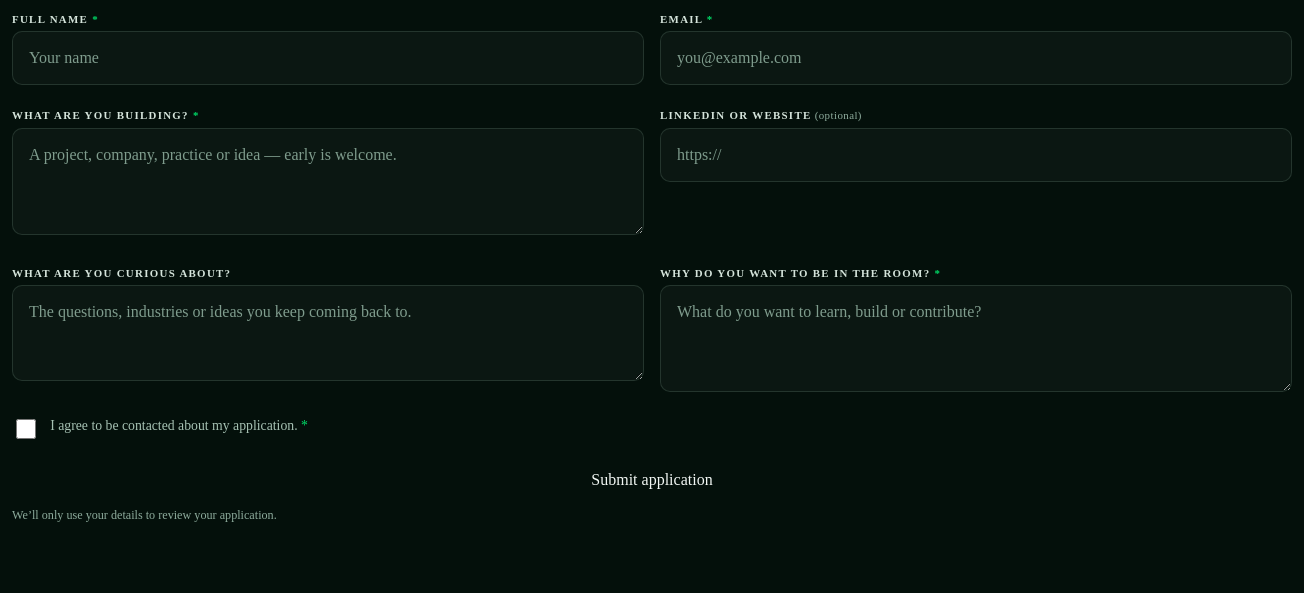
Test: ApplicationForm › handles a network failure without losing entered data
Type "Ada Lovelace" into the field labelled "Full name *". click: (328, 58)
box: left=12, top=31, right=644, bottom=85
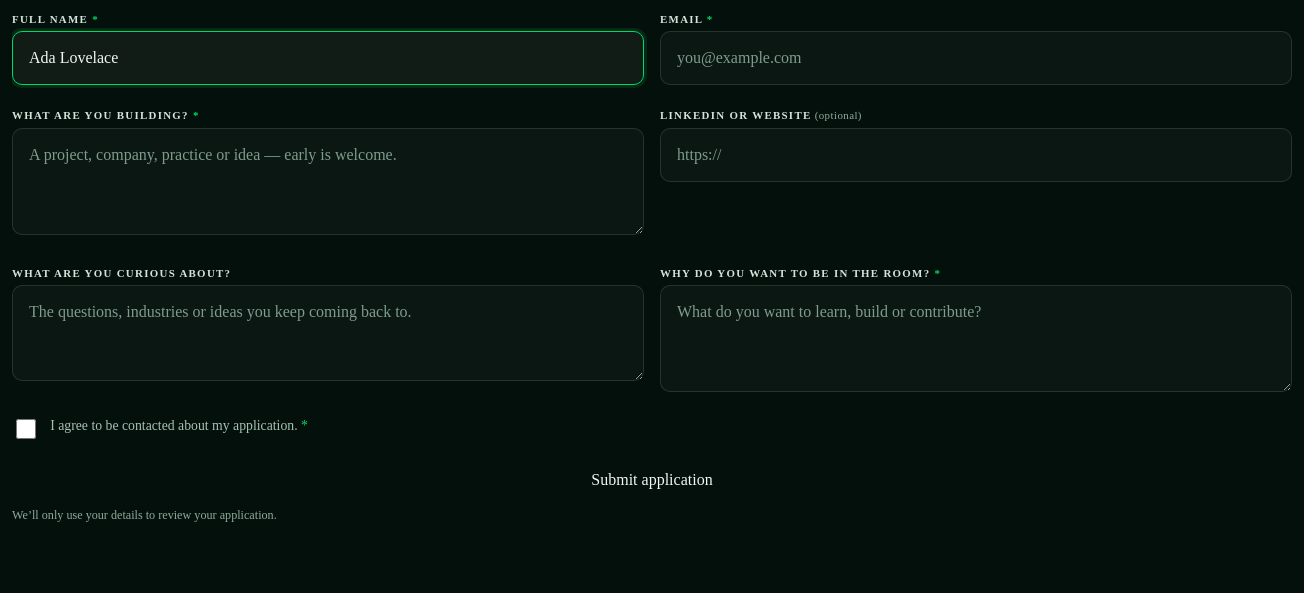
Type "ada@example.com" into the field labelled "Email *". click: (976, 58)
box: left=660, top=31, right=1292, bottom=85
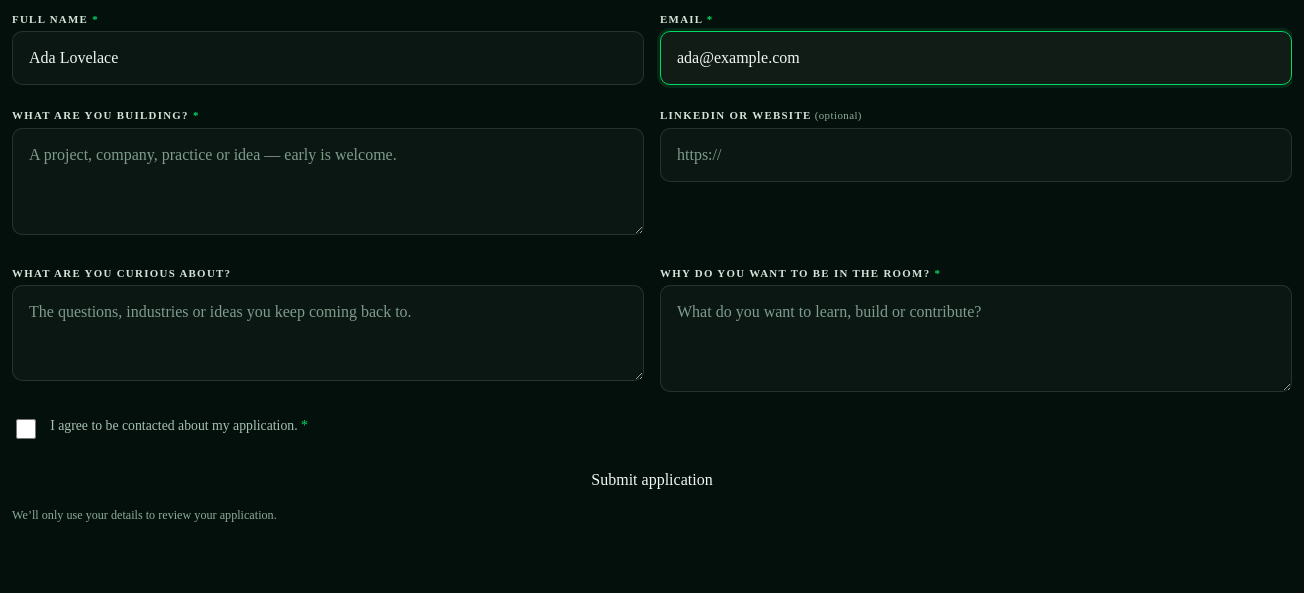
Type "A small studio building useful tools." into the text box labelled "What are you building? *". click: (328, 181)
box: left=12, top=128, right=644, bottom=235
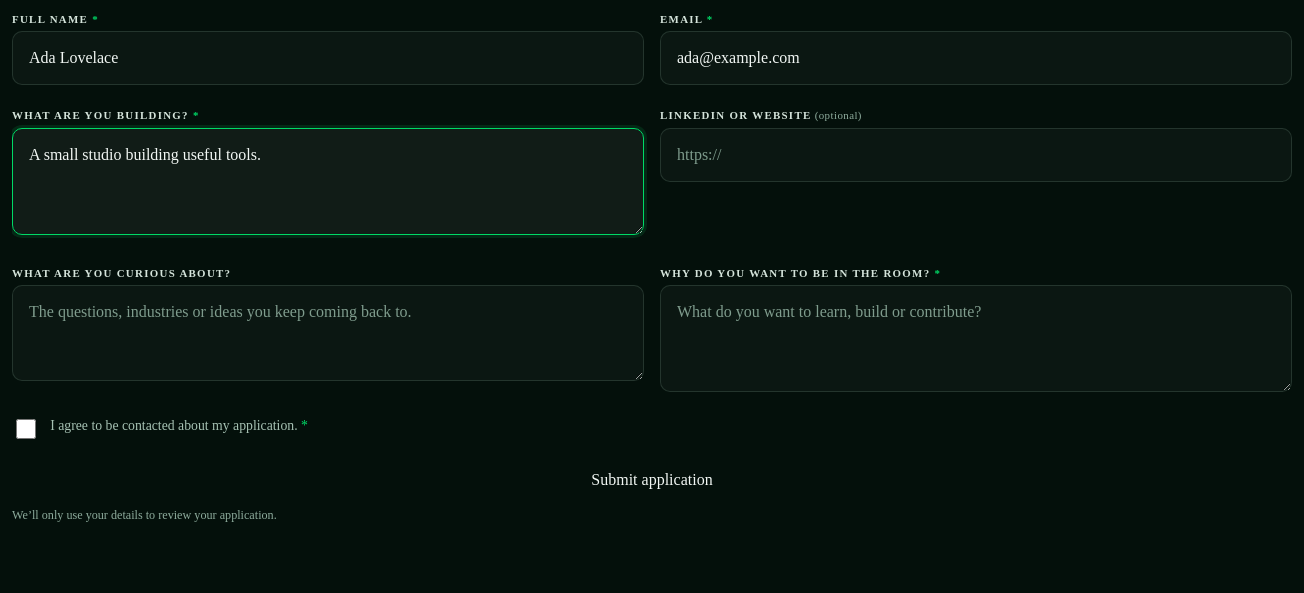
Type "I want to build alongside people who care about difficult, useful problems." into the text box labelled "Why do you want to be in the room? *". click: (976, 339)
box: left=660, top=285, right=1292, bottom=392
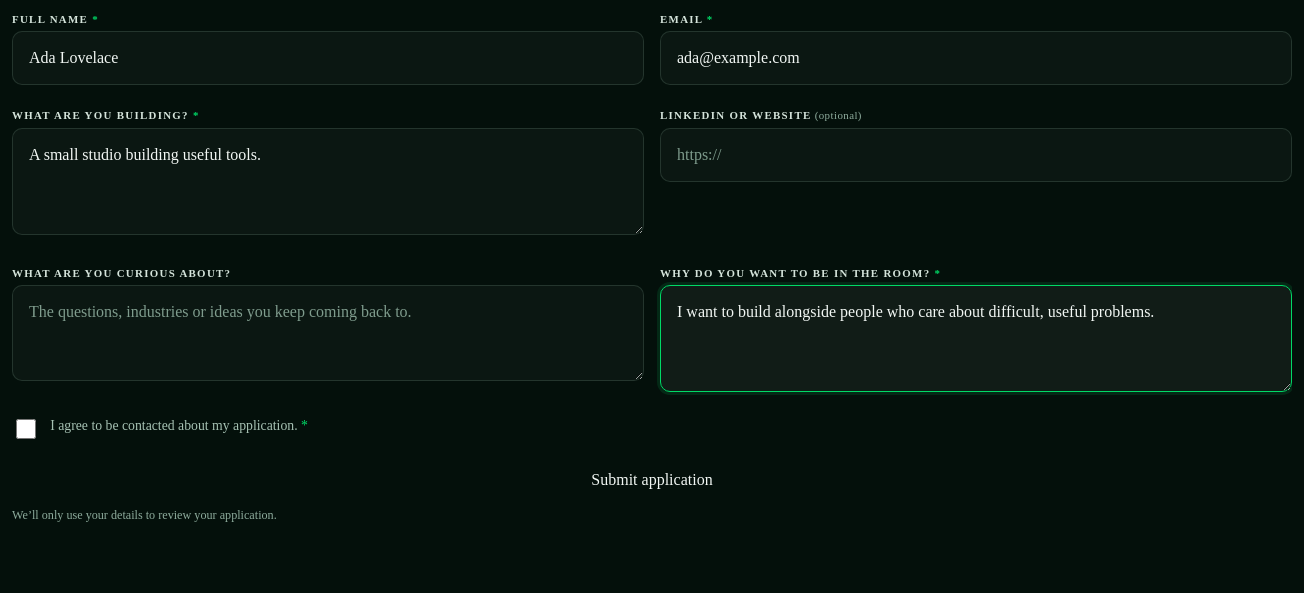
Click the checkbox labelled "I agree to be contacted about my application. *". click: (26, 429)
box: left=16, top=419, right=36, bottom=439
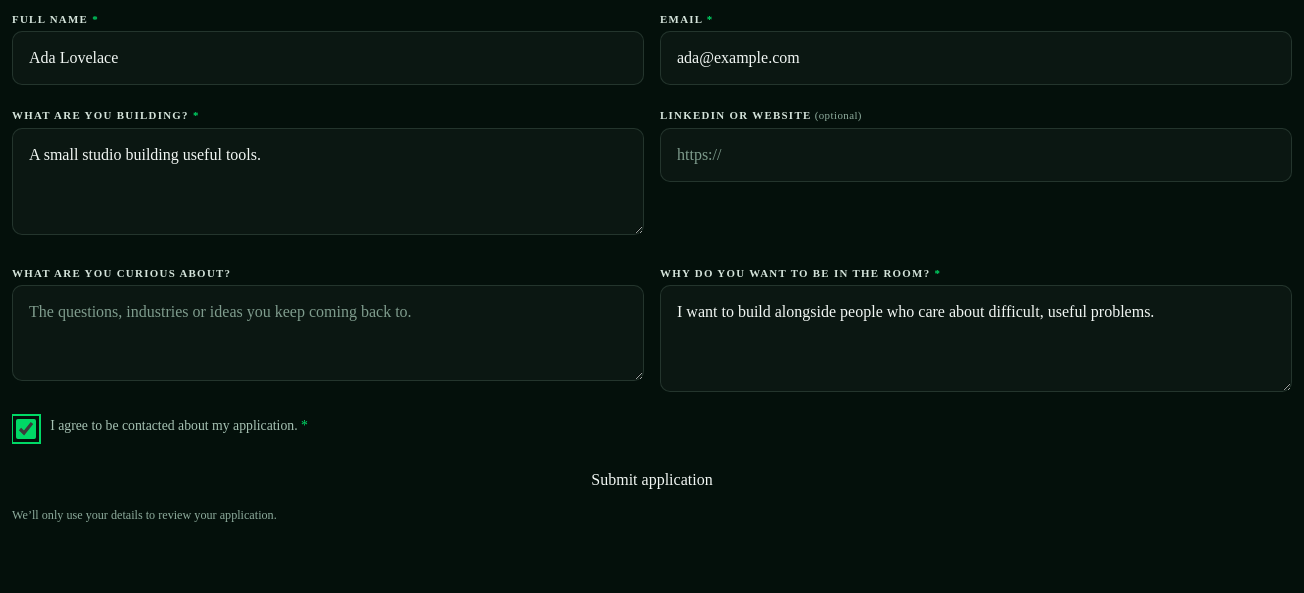
Click the button "Submit application". click: (652, 480)
box: left=12, top=466, right=1292, bottom=494
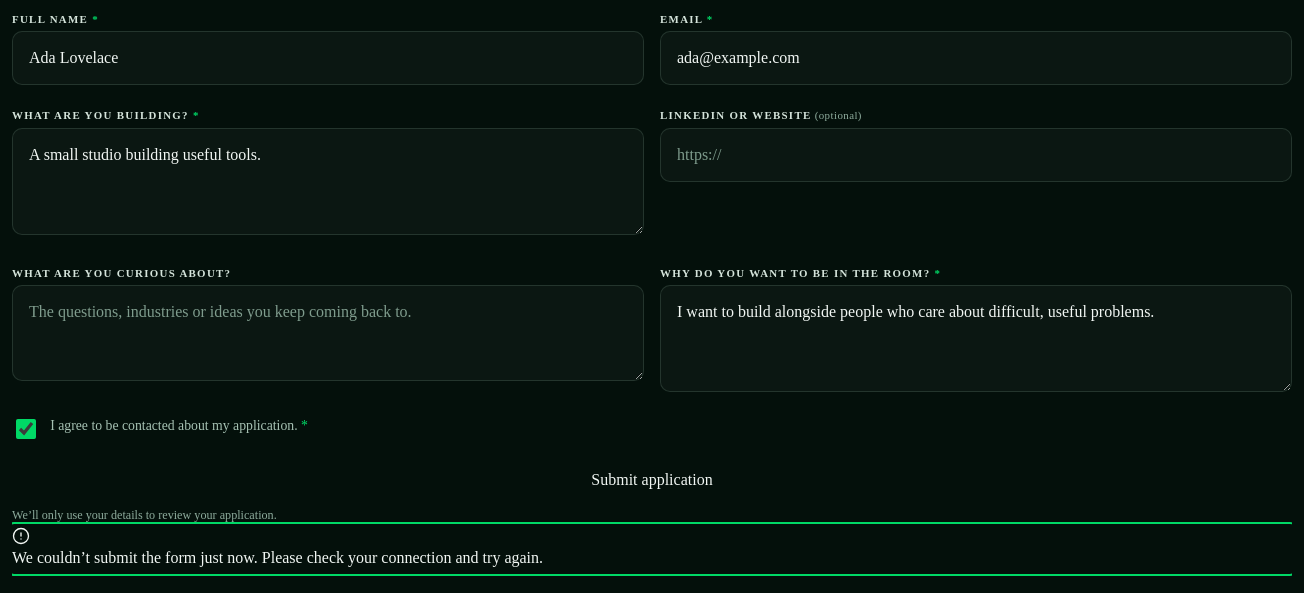
Expected: the message shows "We couldn’t submit the form just now.", left=12, top=549, right=543, bottom=566
